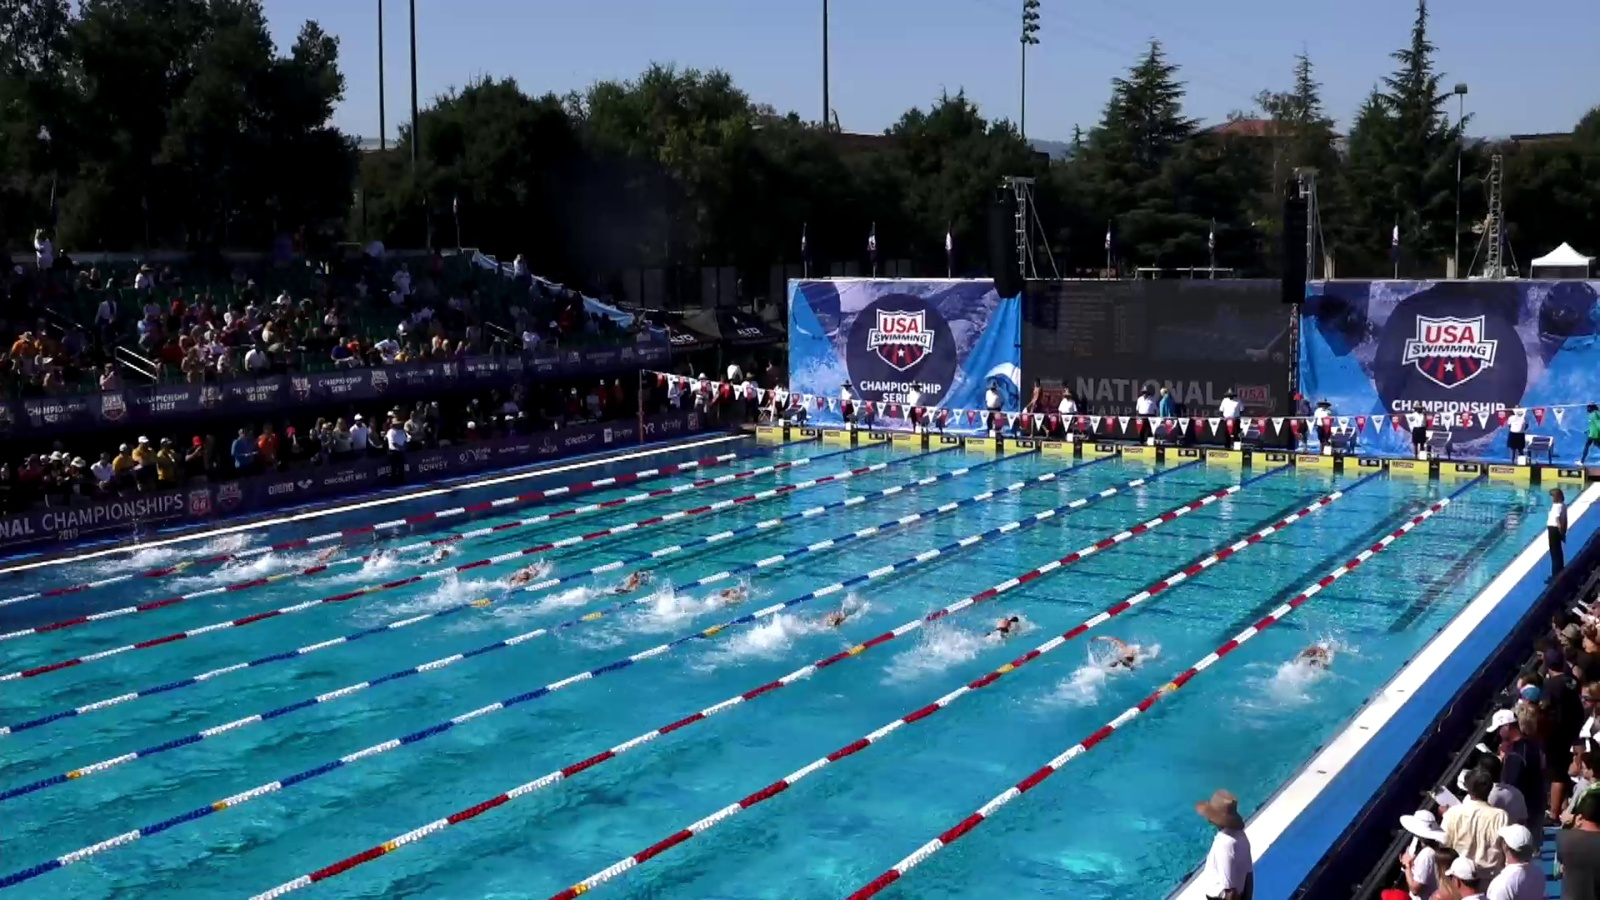swimmerw: (1275, 635, 1338, 696), (1085, 636, 1149, 689), (957, 611, 1031, 653), (491, 553, 547, 589), (591, 565, 651, 595), (805, 603, 854, 637), (705, 580, 747, 611), (199, 532, 254, 555), (422, 537, 463, 564), (309, 543, 349, 567)
